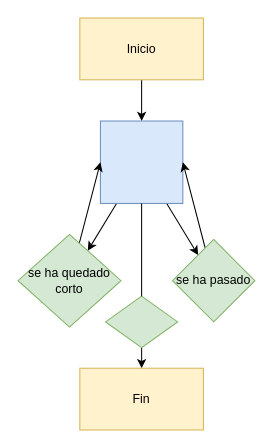
The diagram is 273 pixels wide and 448 high, and some of its shapes have lost their labels. Here are the shapes that lost their labels. From the top down, the centre of each, then its label:
(141,161): Introduzca un número entre 0 y 100
(141,321): correcto
